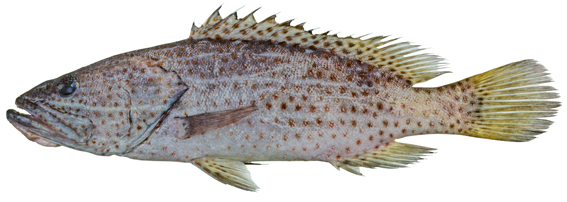fish: (8, 6, 561, 192)
